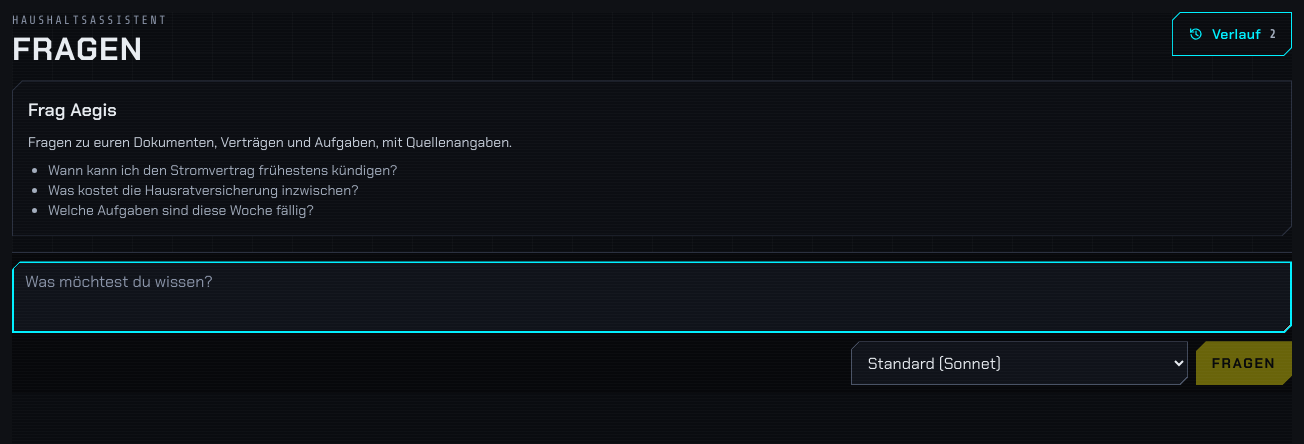
Test: the model of a question › is the household's default unless another family is picked for this one question
The image size is (1304, 444).
Select "Opus – am gründlichsten" in the dropdown with test id "chat-model" at (1019,363), box x1=851 y1=341 x2=1188 y2=385
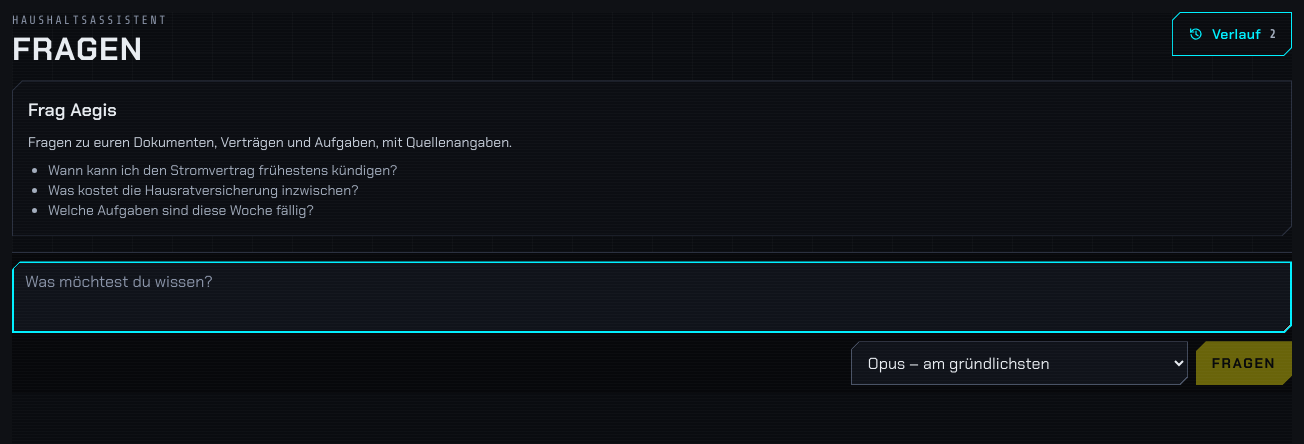
Type "Welche Verträge laufen aus?" into the text box with test id "chat-input" at (652,297), box x1=12 y1=261 x2=1292 y2=333
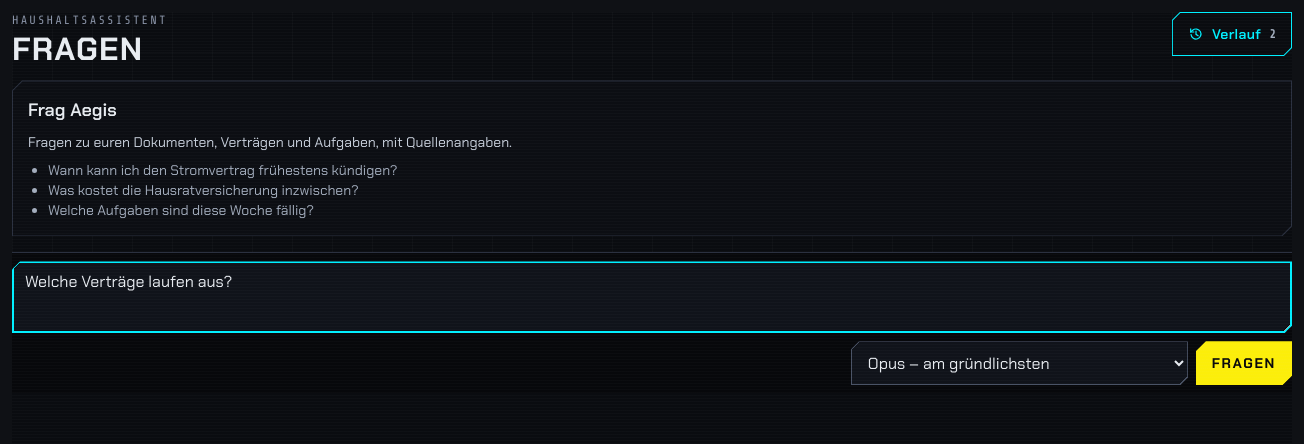
Click the button with test id "chat-send" at (1244,363), box x1=1196 y1=341 x2=1292 y2=385
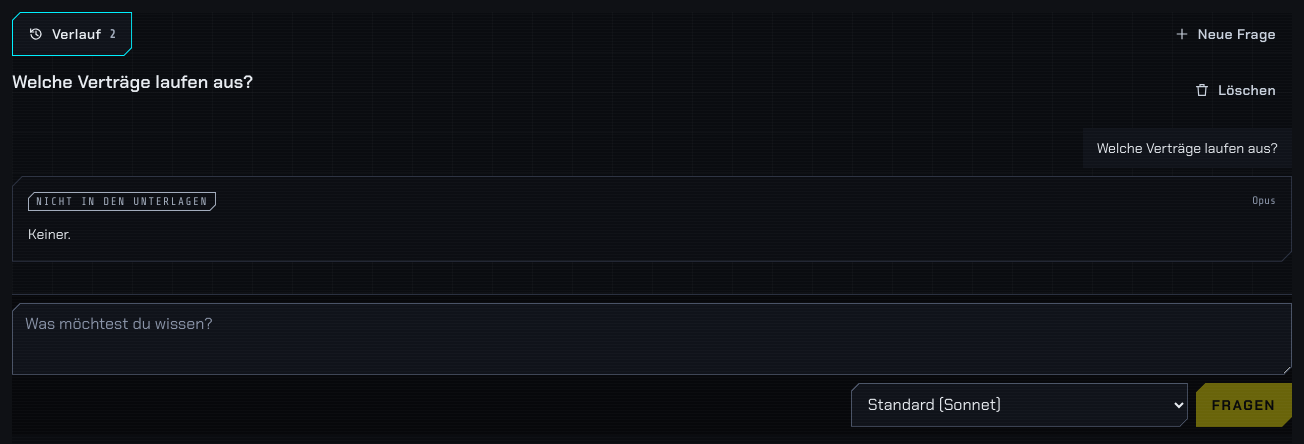
Check: the text "Opus" is shown, box x1=1252 y1=193 x2=1276 y2=210
Check: the text with test id "chat-answer-model" reads "Opus", box x1=1252 y1=194 x2=1276 y2=207
Check: the dropdown with test id "chat-model" shows "Standard (Sonnet)", box x1=851 y1=383 x2=1188 y2=427
